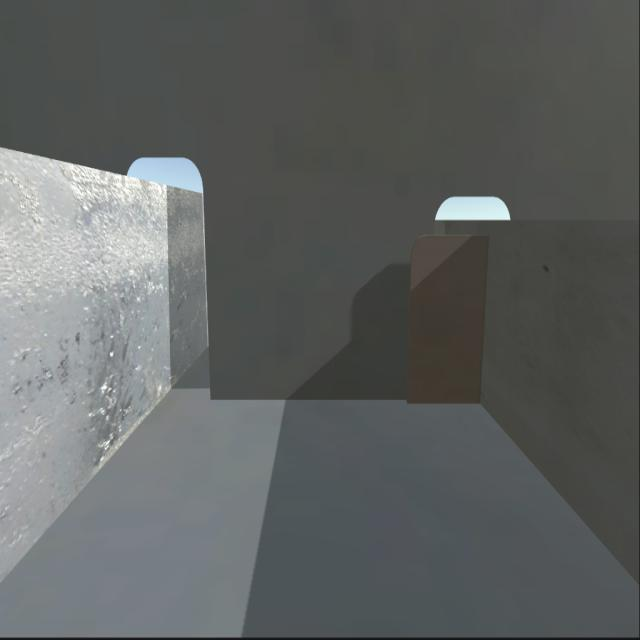fillet_yong_jeop_jang: (211, 395, 482, 412)
longi_yong_jeop_jang: (474, 238, 493, 398)
plate_CP05: (406, 233, 486, 401)
